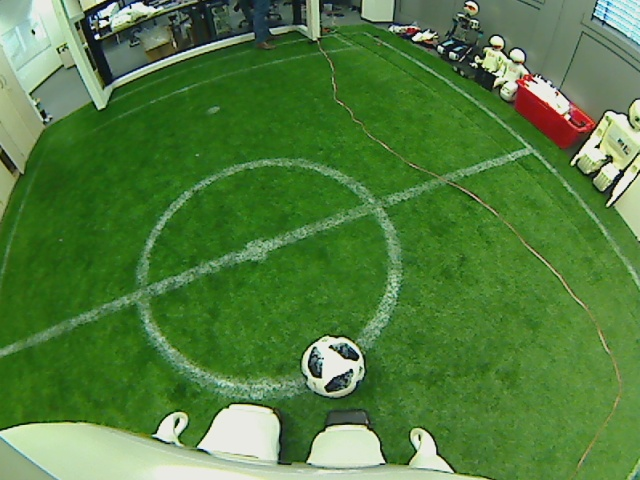ball: (300, 332, 367, 399)
